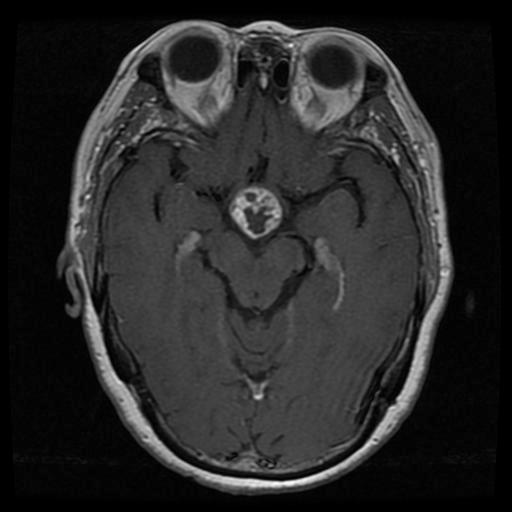Tumour-Pituitary: (225, 185, 285, 246)
